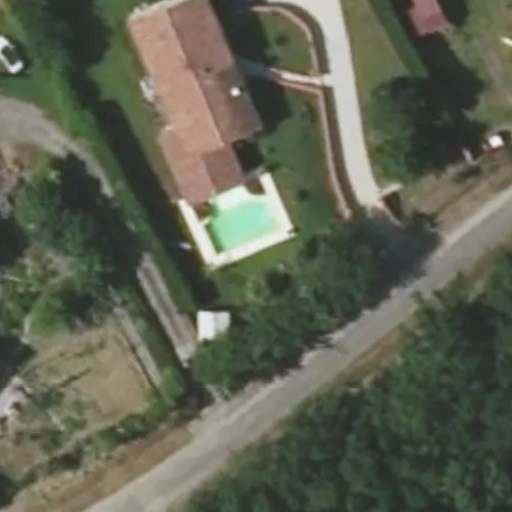pool: (214, 235, 290, 240)
